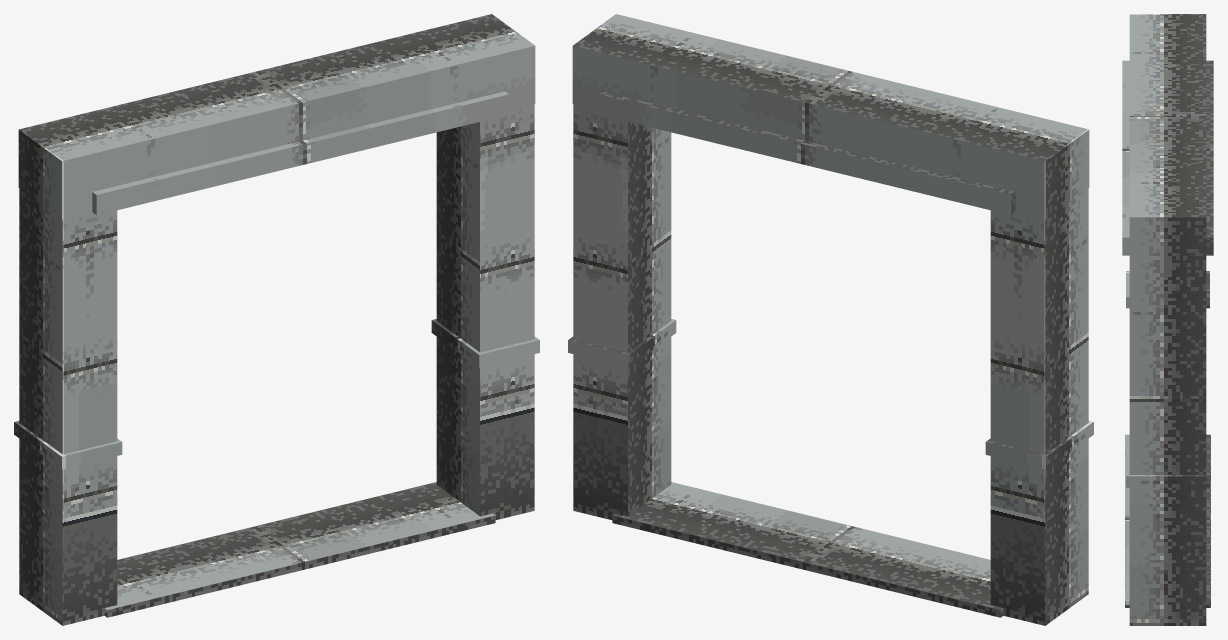
Rendered from hub_lab_doorway.glb.
3 views of the same model, side by side, from view 1: azimuth 30°, elevation 25°; view 2: azimuth 150°, elevation 25°; view 3: azimuth 270°, elevation 25° (orthographic). The views are drawn at different scales.
Parts seen in each view (by area): view 1: hub_lab_doorway; view 2: hub_lab_doorway; view 3: hub_lab_doorway.
Boxes of the visible parts, x1,y1,x2,y2 form: hub_lab_doorway: (14, 14, 539, 625); hub_lab_doorway: (568, 14, 1093, 625); hub_lab_doorway: (1122, 14, 1213, 625).
Bounding box in the file's own units: 3.94 × 3.66 × 0.74.
1 material, 1 textured.
